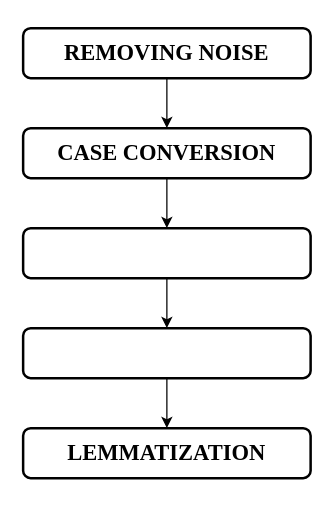
The diagram is 333 pixels wide and 506 high, and some of its shapes have lost their labels. Here are the shapes that lost their labels. From the top down, the box of each, then its label:
(21, 226, 311, 279): REMOVING STOP WORDS
(21, 326, 311, 379): TOKENIZATION
